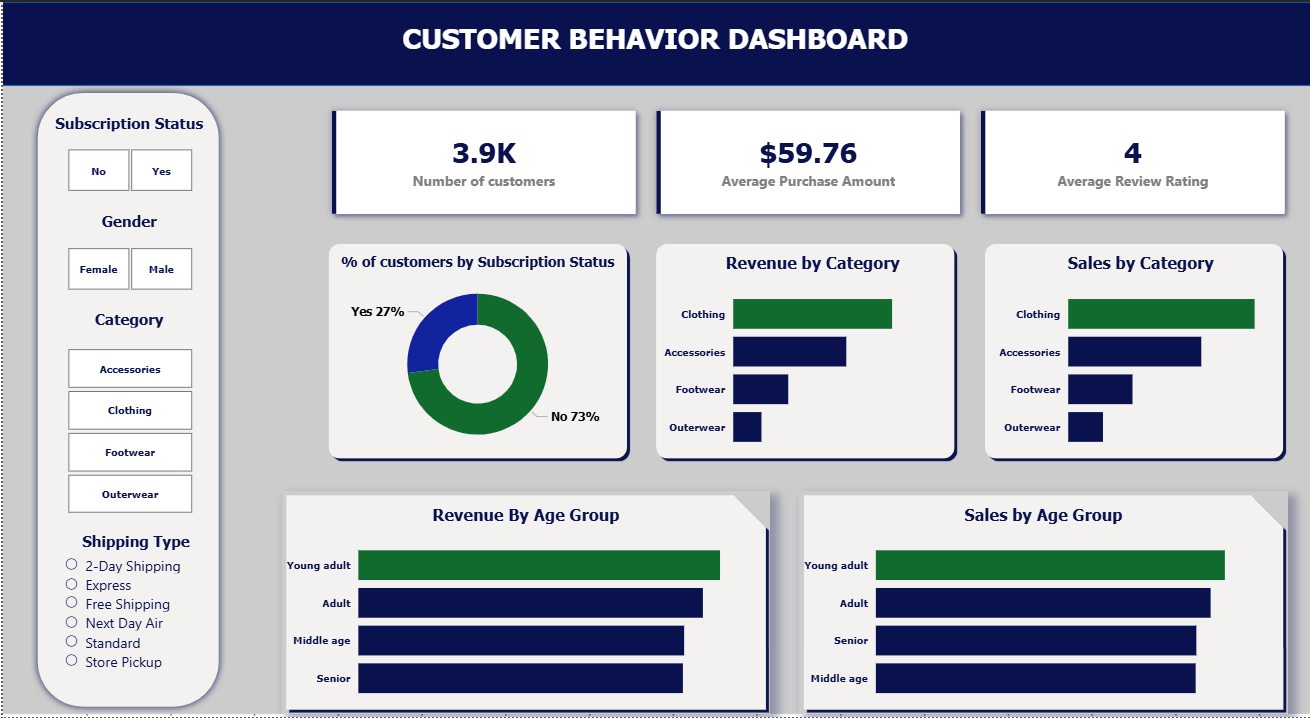

The dashboard page shown, as its layout file describes it:
{"tool":"powerbi","page":{"name":"Page 1","canvas":[1500,820],"ordinal":0},"visuals":[{"type":"shape","box":[-4,0,1504,816],"z":0},{"type":"shape","box":[-4,0,1504,96],"z":1000},{"type":"textbox","box":[-4,0,1504,96],"z":2000},{"type":"cardVisual","fields":{"Data":["public customer.Number of customers","public customer.Average Purchase Amount","public customer.Average Review Rating"]},"box":[348,96,1152,176],"z":3000},{"type":"shape","box":[32,96,224,720],"z":4000},{"type":"shape","box":[320,560,560,256],"z":5000},{"type":"shape","box":[368,272,352,256],"z":6000},{"type":"donutChart","title":"% of customers by Subscription Status","fields":{"Y":["public customer.Number of customers"],"Category":["public customer.subscription_status"]},"box":[368,288,352,240],"z":7000},{"type":"shape","box":[744,272,352,256],"z":8000},{"type":"shape","box":[1120,272,352,256],"z":9000},{"type":"clusteredBarChart","title":"Revenue by Category","fields":{"Y":["Sum(public customer.purchase_amount)"],"Category":["public customer.category"]},"box":[752,288,352,240],"z":10000},{"type":"clusteredBarChart","title":"Sales by Category","fields":{"Y":["public customer.Number of customers"],"Category":["public customer.category"]},"box":[1136,288,336,240],"z":11000},{"type":"clusteredBarChart","title":"Revenue By Age Group","fields":{"Y":["Sum(public customer.purchase_amount)"],"Category":["public customer.age_group"]},"box":[320,576,560,240],"z":12000},{"type":"slicer","title":"Subscription Status","fields":{"Values":["public customer.subscription_status"]},"box":[48,128,192,96],"z":13000},{"type":"slicer","title":"Gender","fields":{"Values":["public customer.gender"]},"box":[48,240,192,96],"z":14000},{"type":"slicer","title":"Category","fields":{"Values":["public customer.category"]},"box":[48,352,192,240],"z":15000},{"type":"listSlicer","title":"Shipping Type","fields":{"Values":["public customer.shipping_type"]},"box":[64,608,176,208],"z":16000},{"type":"shape","box":[912,560,560,256],"z":22000},{"type":"clusteredBarChart","title":"Sales by Age Group","fields":{"Y":["public customer.Number of customers"],"Category":["public customer.age_group"]},"box":[912,576,560,240],"z":23000}]}

Visuals, with their boxes in screenshot pixels (x1, y1, x2, y2), scaled from the page's 1500x820 canvas onto the 1310x718 screenshot:
shape: <region>0, 0, 1309, 714</region>
shape: <region>0, 0, 1309, 84</region>
textbox: <region>0, 0, 1309, 84</region>
cardVisual - public customer.Number of customers x public customer.Average Purchase Amount: <region>304, 84, 1309, 238</region>
shape: <region>28, 84, 224, 714</region>
shape: <region>279, 490, 769, 714</region>
shape: <region>321, 238, 629, 462</region>
"% of customers by Subscription Status" donutChart: <region>321, 252, 629, 462</region>
shape: <region>650, 238, 957, 462</region>
shape: <region>978, 238, 1286, 462</region>
"Revenue by Category" clusteredBarChart: <region>657, 252, 964, 462</region>
"Sales by Category" clusteredBarChart: <region>992, 252, 1286, 462</region>
"Revenue By Age Group" clusteredBarChart: <region>279, 504, 769, 714</region>
"Subscription Status" slicer: <region>42, 112, 210, 196</region>
"Gender" slicer: <region>42, 210, 210, 294</region>
"Category" slicer: <region>42, 308, 210, 518</region>
"Shipping Type" listSlicer: <region>56, 532, 210, 714</region>
shape: <region>796, 490, 1286, 714</region>
"Sales by Age Group" clusteredBarChart: <region>796, 504, 1286, 714</region>
